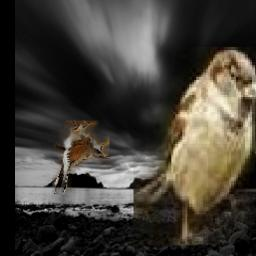Cuckoo: (52, 122, 110, 195)
Sparrow: (133, 47, 256, 245)
